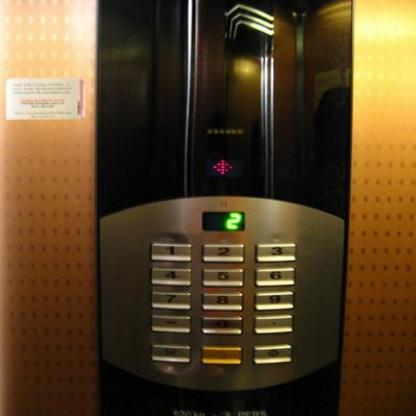-: (148, 313, 192, 334), (252, 312, 293, 334)
0: (199, 314, 243, 335)
1: (148, 240, 192, 262)
2: (201, 241, 245, 263)
3: (253, 241, 297, 262)
4: (146, 265, 192, 286)
5: (200, 266, 244, 287)
6: (252, 265, 297, 287)
7: (149, 289, 192, 310)
8: (198, 290, 244, 311)
9: (253, 290, 294, 310)
alarm: (199, 344, 243, 366)
close: (150, 341, 191, 364)
led: (202, 211, 244, 231)
open: (250, 343, 293, 364)
